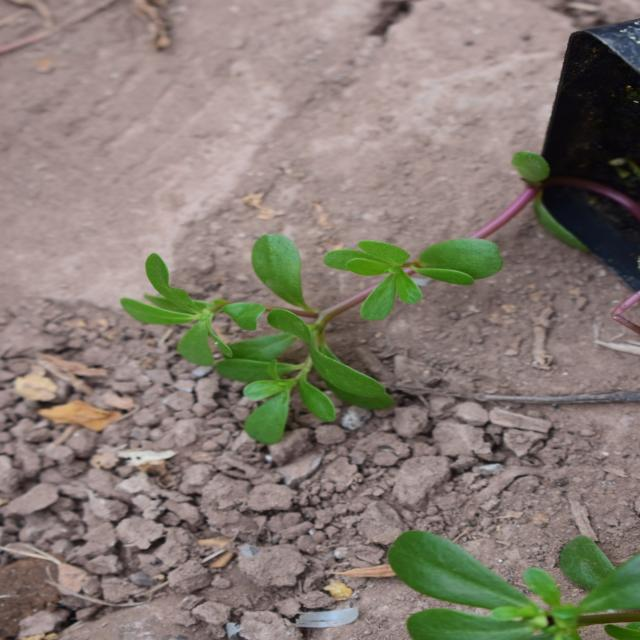purslane: (178, 116, 428, 518)
